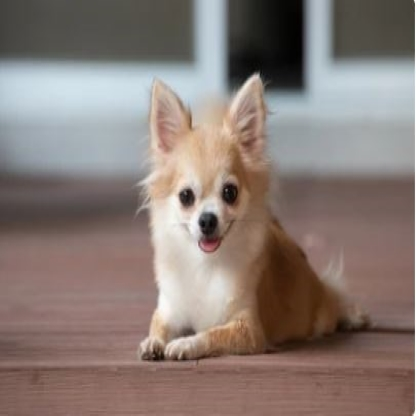chihuahua: (133, 69, 371, 364)
